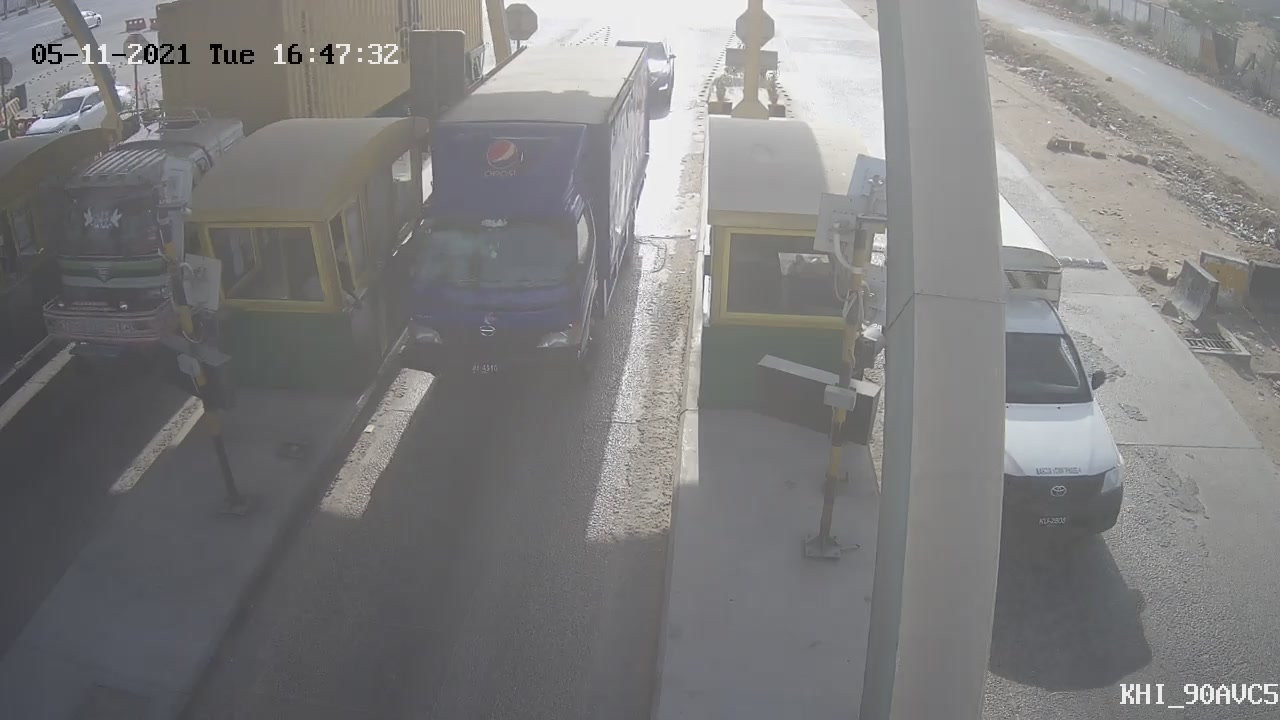F5: (370, 27, 673, 421)
